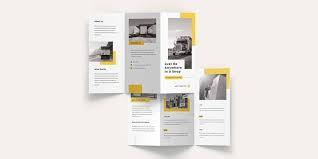paper: (88, 12, 229, 146)
